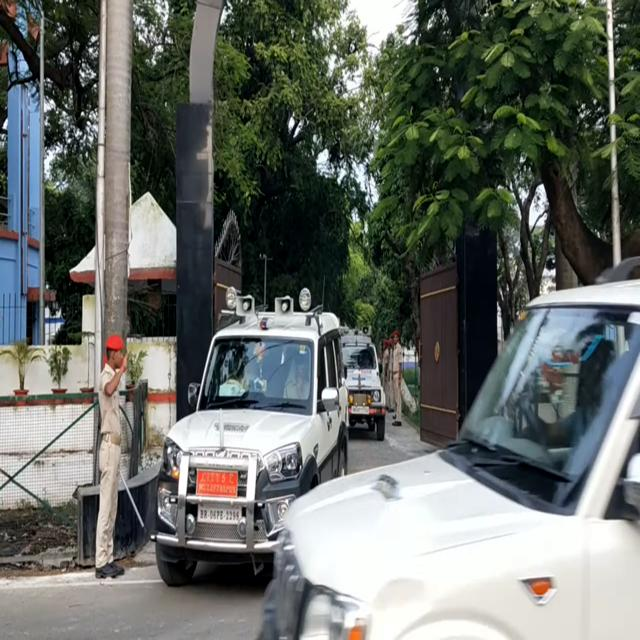emergency-vehicles: (153, 284, 354, 596)
